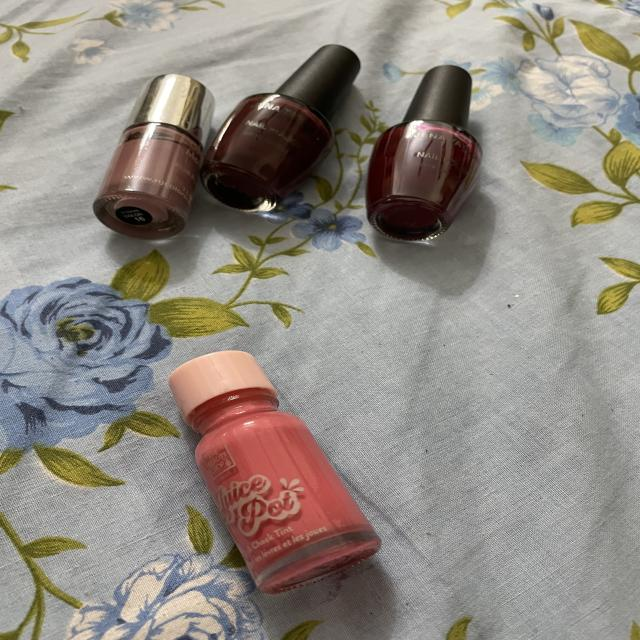Tint: (119, 346, 410, 602)
nail polish: (205, 40, 369, 208), (67, 64, 223, 238), (356, 55, 494, 242)
